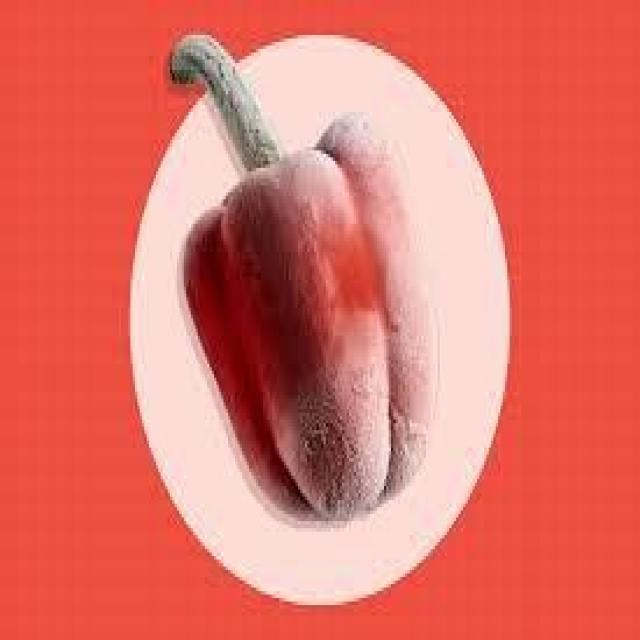bell_pepper: (154, 27, 460, 550)
